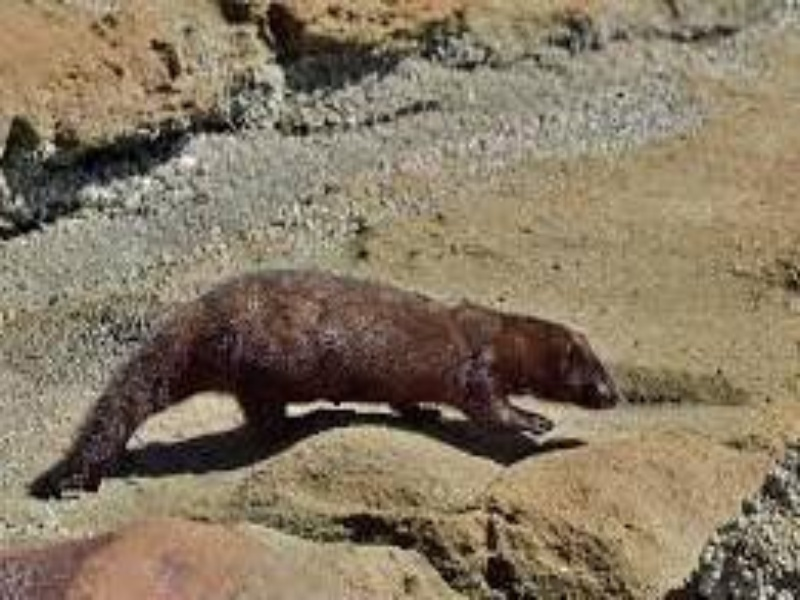minkish: (41, 263, 624, 497)
